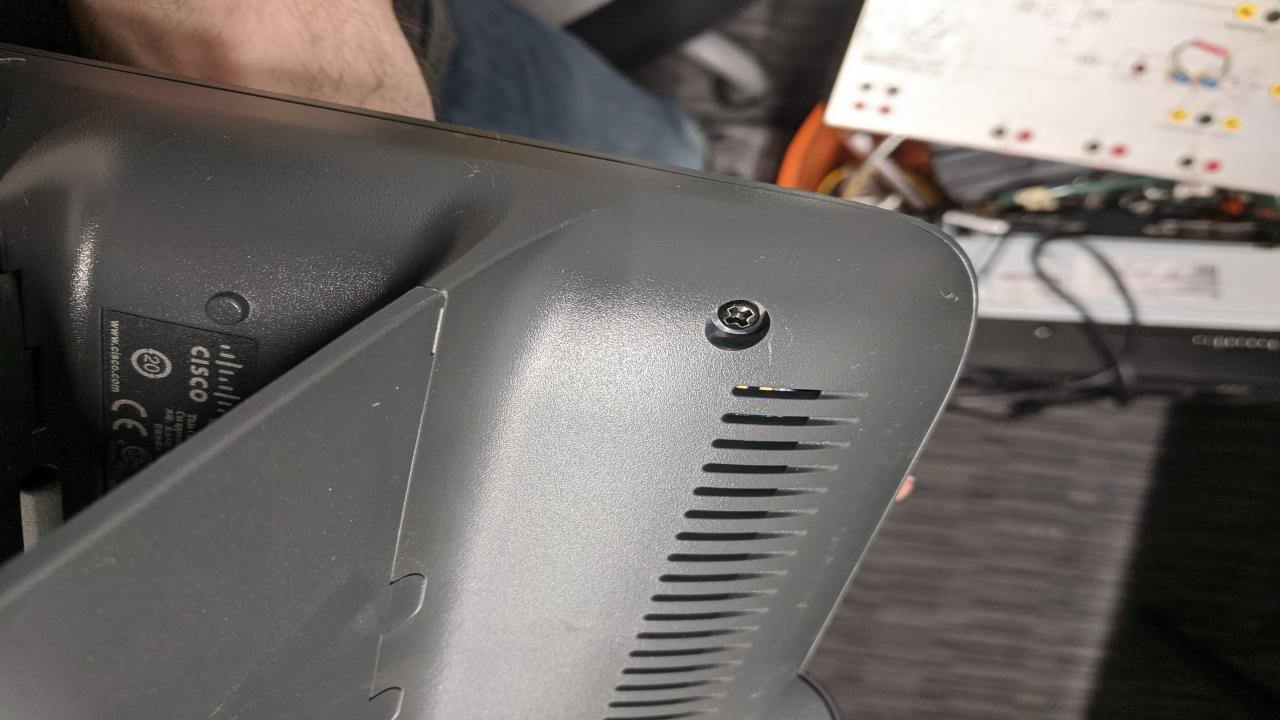CRS: (712, 298, 766, 330)
